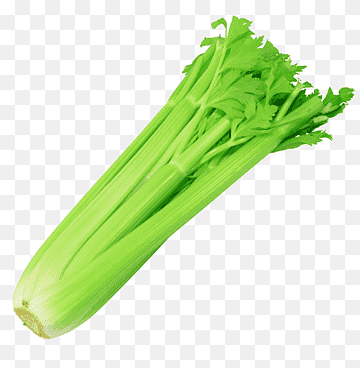Seledri: (28, 16, 332, 362)
